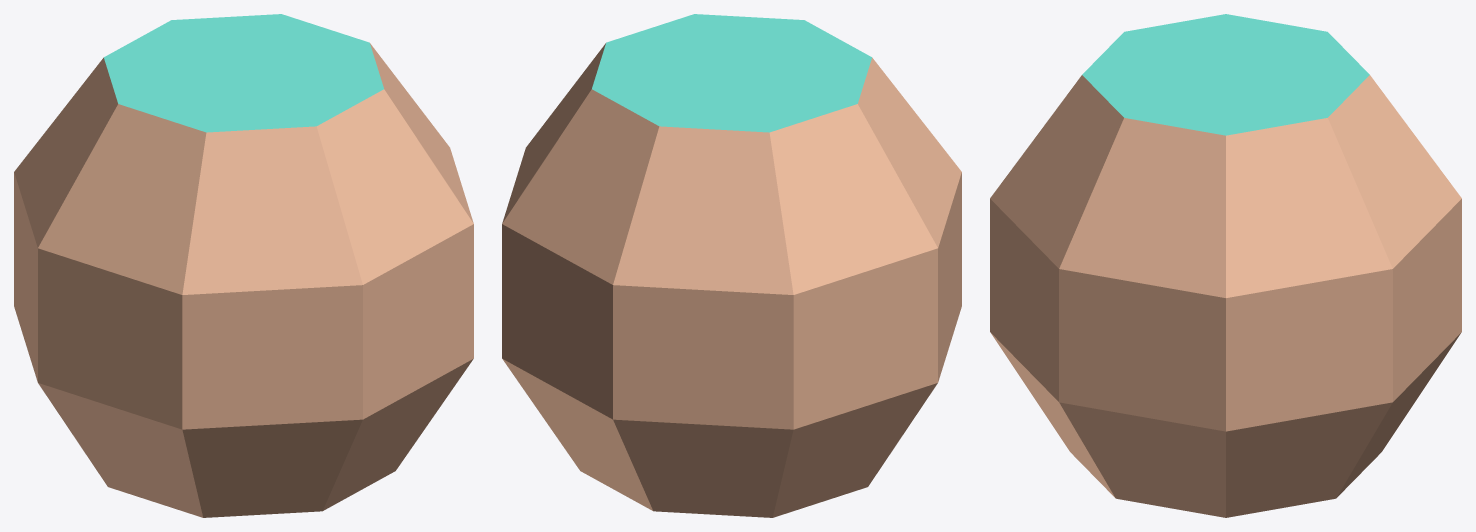
3 views of the same model, side by side, from view 1: azimuth 30°, elevation 25°; view 2: azimuth 150°, elevation 25°; view 3: azimuth 270°, elevation 25° (orthographic).
Visible parts, largest first — view 1: rock_smallH; view 2: rock_smallH; view 3: rock_smallH.
Boxes of the visible parts, x1,y1,x2,y2 form: rock_smallH: (14, 14, 473, 517); rock_smallH: (502, 14, 961, 517); rock_smallH: (990, 14, 1461, 517).
Bounding box in the file's own units: 0.4618 × 0.4074 × 0.4618.
